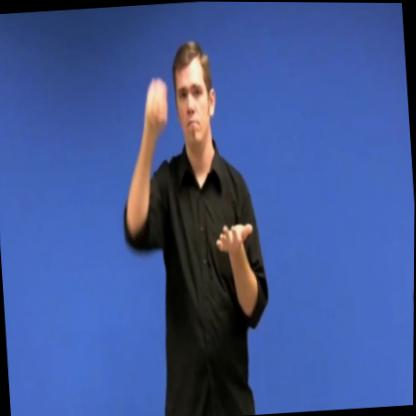Expensive: (136, 71, 256, 265)
